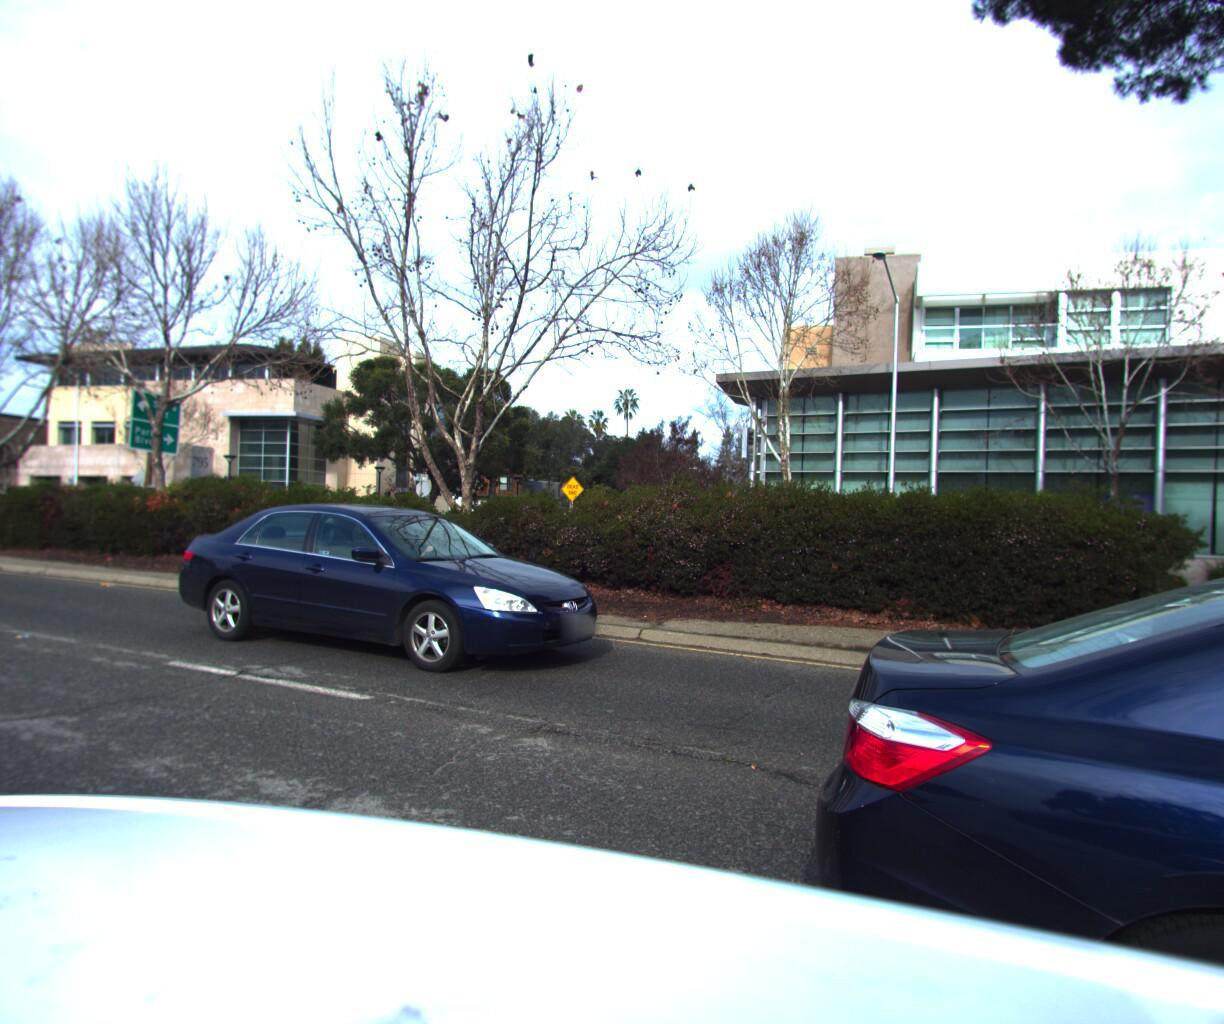car: (167, 503, 626, 691)
